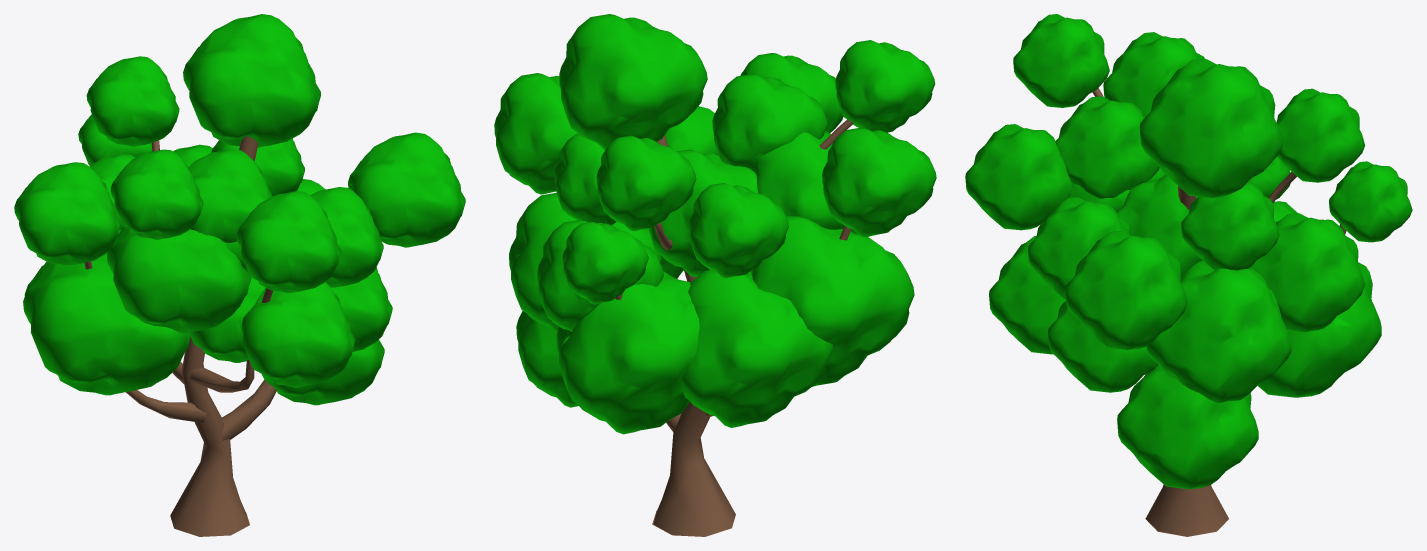
File: Base tree_LOD30.fbx
3 views of the same model, side by side, from view 1: azimuth 30°, elevation 25°; view 2: azimuth 150°, elevation 25°; view 3: azimuth 270°, elevation 25° (orthographic). The views are drawn at different scales.
Parts seen in each view (by area): view 1: VG_Tree_01; view 2: VG_Tree_01; view 3: VG_Tree_01.
Boxes of the visible parts, x1=… form: VG_Tree_01: x1=14, y1=14, x2=465, y2=536; VG_Tree_01: x1=494, y1=14, x2=936, y2=536; VG_Tree_01: x1=965, y1=14, x2=1412, y2=536.
Bounding box in the file's own units: 7.94 × 8.5 × 7.12.
